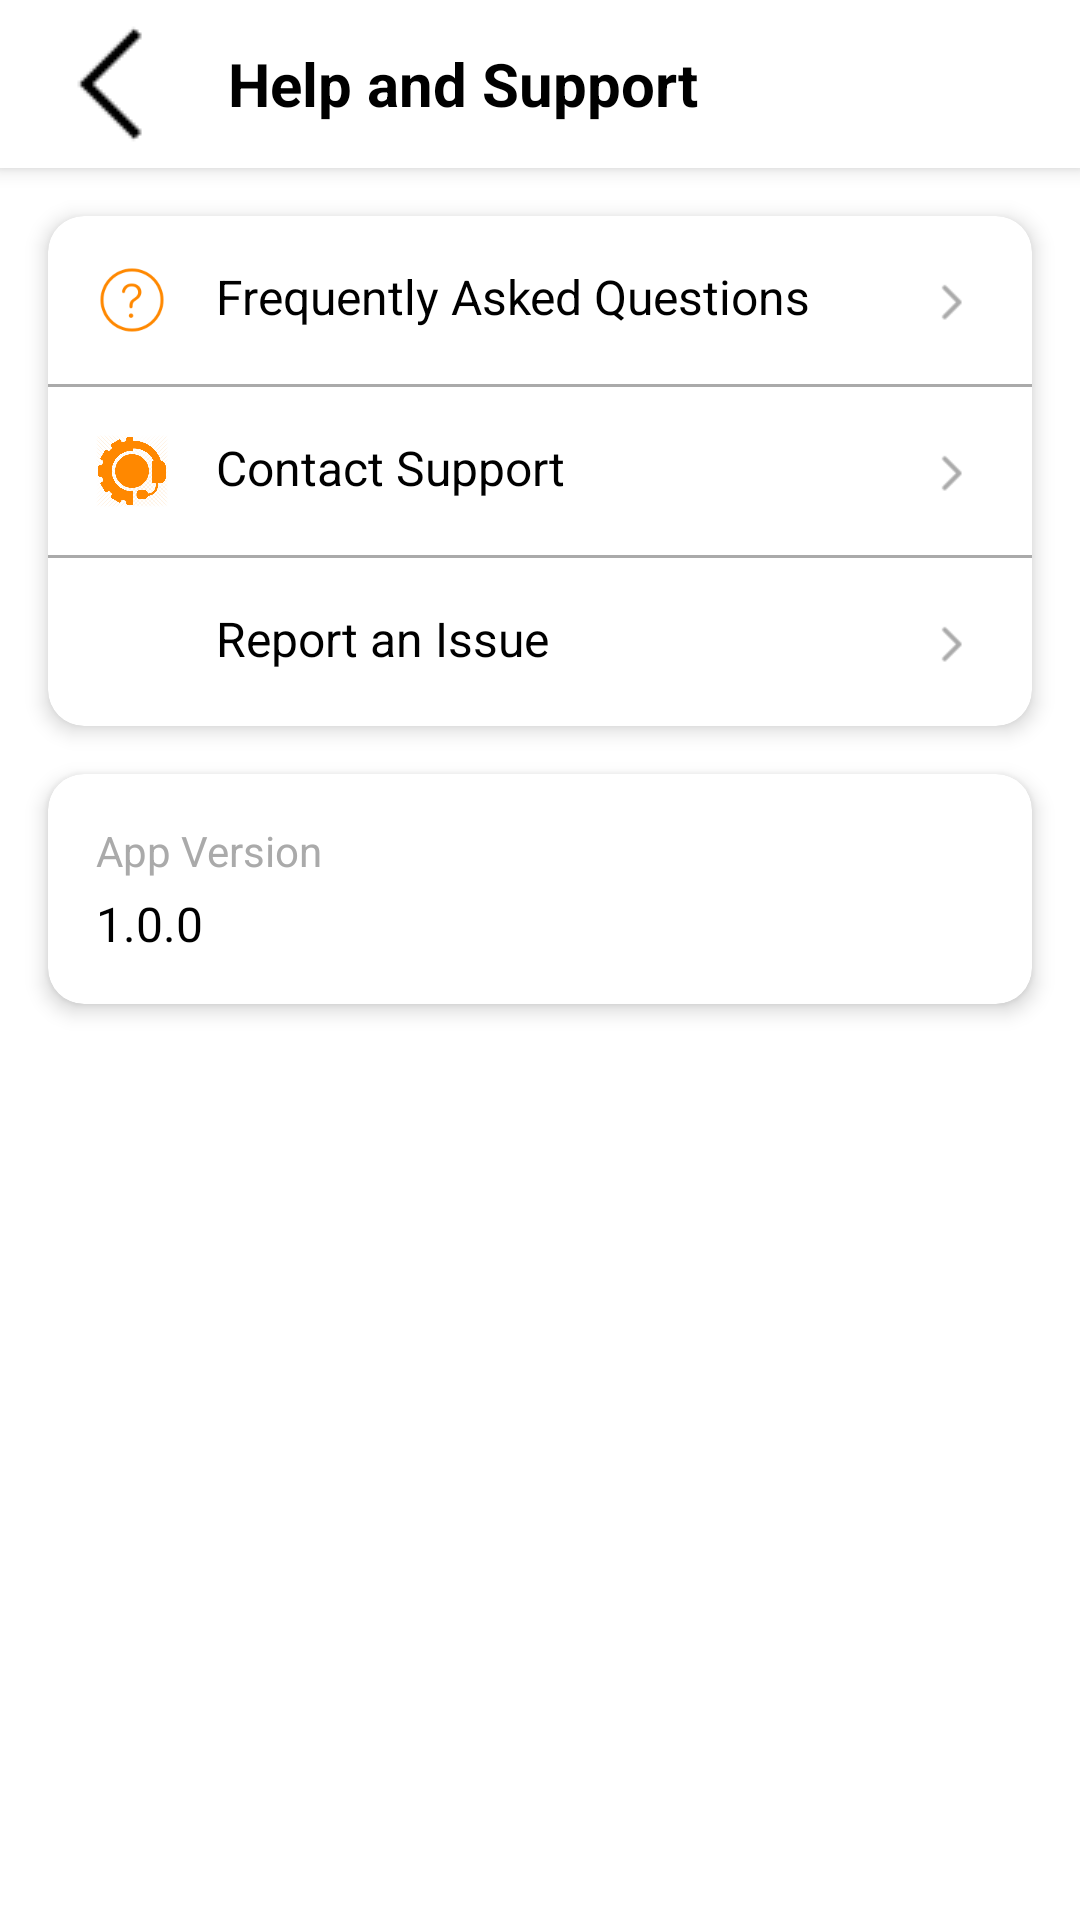

Where to tap for icons on this 1080px×1920px app screen, as (x,y):
back: (110,84)
right arrow: (952,302), (952,473), (952,644)
